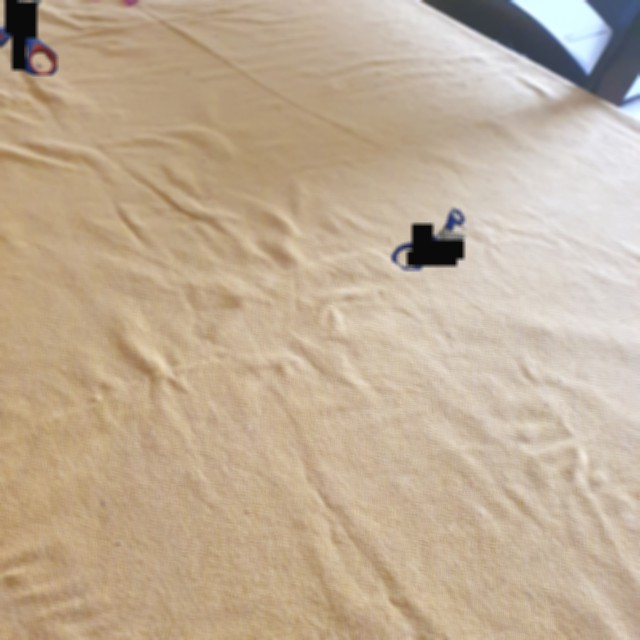scissors: (392, 208, 465, 270), (0, 0, 57, 75)
